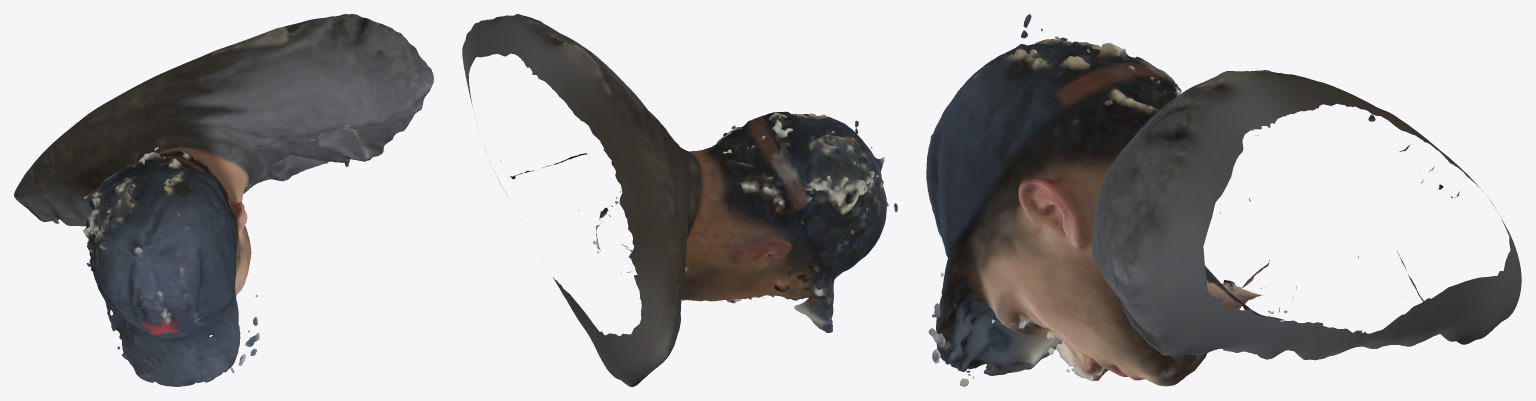
File: selfportrait-vc.glb
The picture shows the model from 3 angles, left to right: view 1: azimuth 30°, elevation 25°; view 2: azimuth 150°, elevation 25°; view 3: azimuth 270°, elevation 25°; orthographic projection. The views are drawn at different scales.
Visible parts, largest first — view 1: head; view 2: head; view 3: head.
Boxes of the visible parts, x1=… form: head: x1=14, y1=14, x2=433, y2=386; head: x1=462, y1=14, x2=897, y2=386; head: x1=926, y1=14, x2=1521, y2=386.
Size of the model in its own units: 6.68 by 4.84 by 5.88.
